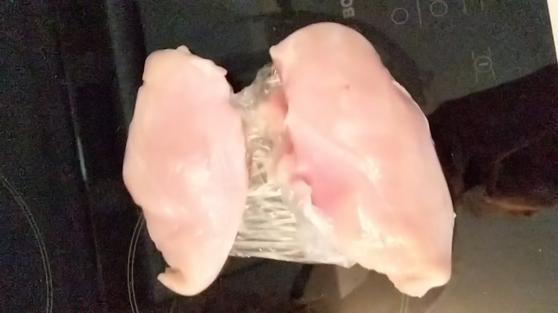chicken_fillet: (264, 22, 457, 298), (121, 47, 246, 297)
